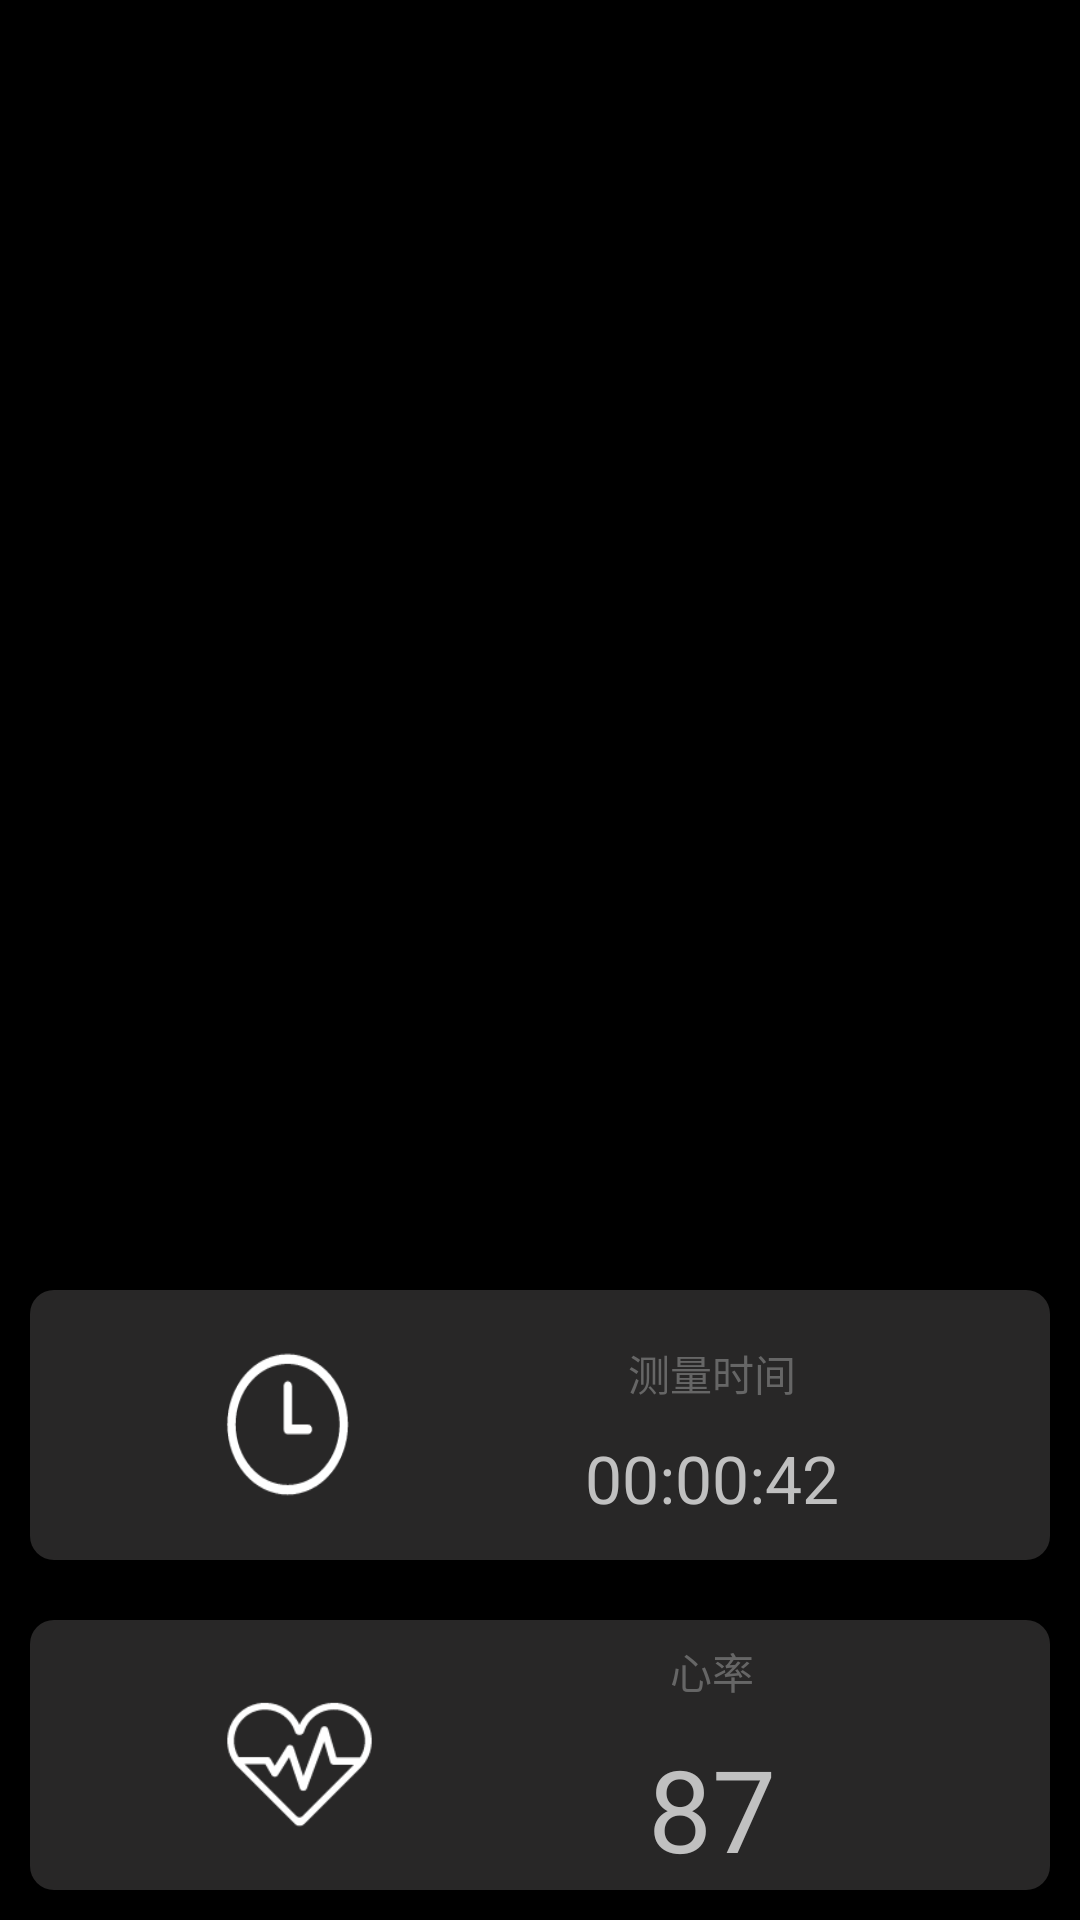

Icon bounding boxes for this 1080 × 1920 phone screenshot, format (x1, y1, x2, y2):
time: (227, 1353, 349, 1496)
xinlv: (227, 1702, 372, 1827)
